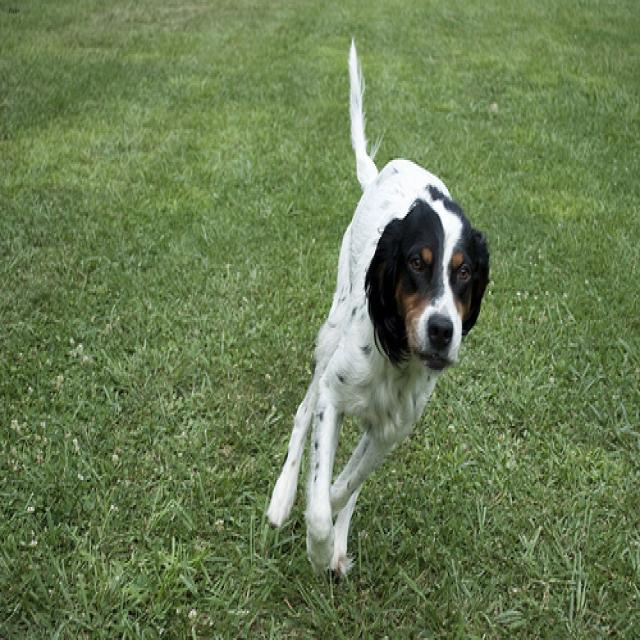dog-english_setter: (256, 25, 497, 580)
